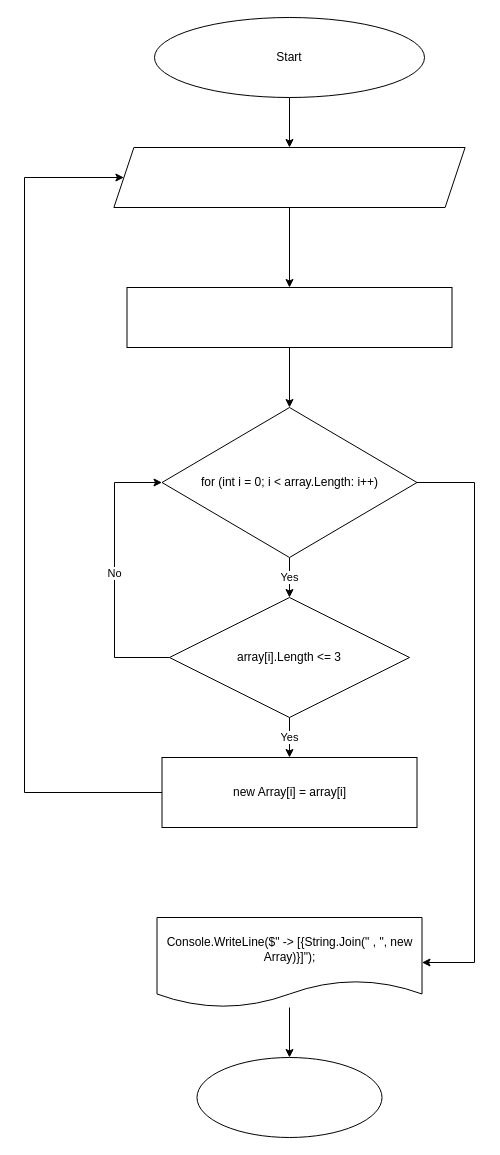
Image size: 500x1155. Some labels were removed from this diagram. The shapes that lost their labels are listed below. From the top down, each one's centre as x and y in pixels, then its label:
(289,177): string[] array = ["Hi", "1636", "10", "mom", "1238"]:
(289,317): string[] new Aray = new string[array]
(289,1097): END
